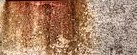Corrosion: (1, 1, 93, 55)
